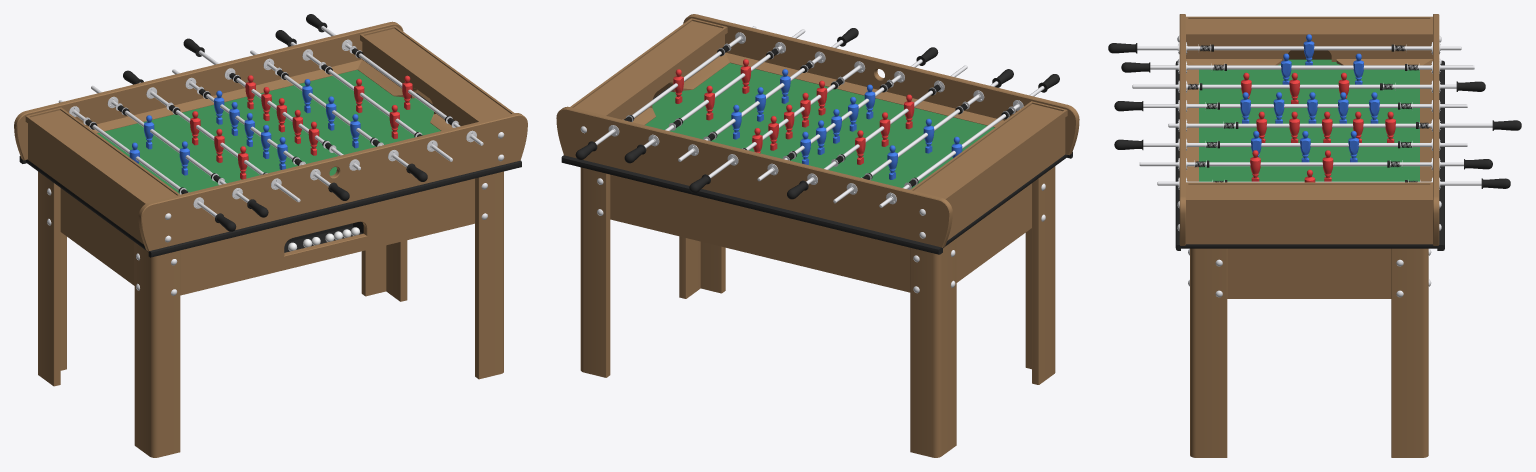
File: futbolin_articulado.glb
3 renders of one model, left to right at view 1: azimuth 30°, elevation 25°; view 2: azimuth 150°, elevation 25°; view 3: azimuth 270°, elevation 25°, orthographic.
Visible parts, largest first — view 1: Table_012, Table_008, Camp, Table_004, Table_009, Table_001, Table_013, Table_014, Table_007, Detail_04, Miter_01, Table_011 (+10 smaller); view 2: Table_012, Table_009, Camp, Table_005, Table_008, Table_001, Table_014, Table_013, Table_007, Detail_03, Miter_01, Table_011 (+11 smaller); view 3: Camp, Table_012, Table_000, Table_006, Table_013, Table_016, Table_014, Table_010, Table_011, Miter_01, Table_008, Table_009 (+12 smaller).
Part boxes in pixels (<box>): Table_012: <box>38,171,503,457</box>; Table_008: <box>138,113,527,251</box>; Camp: <box>97,70,440,193</box>; Table_004: <box>180,178,474,295</box>; Table_009: <box>14,21,403,160</box>; Table_001: <box>28,124,143,244</box>; Table_013: <box>365,28,510,121</box>; Table_014: <box>31,110,176,202</box>; Table_007: <box>60,188,134,285</box>; Detail_04: <box>148,160,521,257</box>; Miter_01: <box>88,59,361,133</box>; Table_011: <box>25,107,179,206</box>; Table_012: <box>580,166,1055,457</box>; Table_009: <box>556,106,952,247</box>; Camp: <box>645,63,994,188</box>; Table_005: <box>610,174,910,292</box>; Table_008: <box>683,14,1079,155</box>; Table_001: <box>947,118,1065,240</box>; Table_014: <box>914,104,1062,198</box>; Table_013: <box>573,21,722,115</box>; Table_007: <box>956,183,1031,282</box>; Detail_03: <box>561,155,942,254</box>; Miter_01: <box>725,52,1004,127</box>; Table_011: <box>910,101,1067,202</box>; Camp: <box>1199,59,1419,181</box>; Table_012: <box>1190,248,1428,457</box>; Table_000: <box>1186,206,1432,244</box>; Table_006: <box>1227,248,1391,298</box>; Table_013: <box>1188,184,1430,198</box>; Table_016: <box>1186,40,1432,61</box>; Table_014: <box>1188,19,1430,32</box>; Table_010: <box>1186,182,1432,205</box>; Table_011: <box>1186,16,1432,39</box>; Miter_01: <box>1186,59,1432,181</box>; Table_008: <box>1179,14,1185,245</box>; Table_009: <box>1433,14,1439,245</box>.
Size of what is drawn, in the model's own units: 1.4 by 0.9097 by 1.27.
